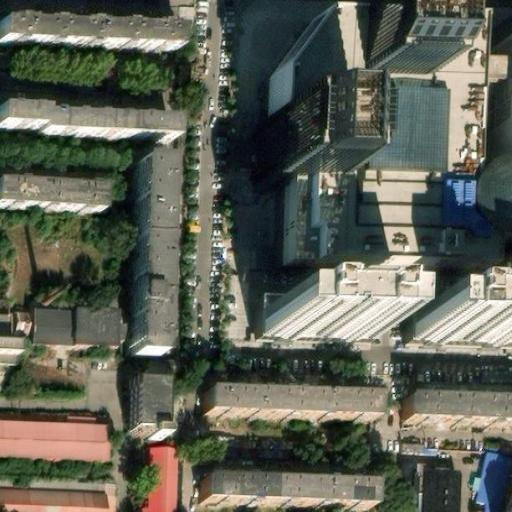building: (266, 27, 489, 287), (0, 15, 175, 50), (202, 478, 376, 511), (203, 392, 377, 423), (0, 414, 109, 462), (129, 237, 170, 356), (350, 29, 424, 94), (38, 108, 174, 142), (11, 304, 122, 344), (268, 122, 328, 191), (266, 300, 377, 337), (0, 180, 100, 216), (401, 397, 512, 429), (414, 305, 512, 338), (134, 159, 174, 239), (0, 485, 109, 512), (145, 447, 182, 512), (475, 159, 512, 220), (476, 451, 512, 512), (412, 467, 458, 512), (138, 373, 172, 425), (266, 292, 377, 307), (488, 32, 512, 96), (414, 302, 512, 311)
